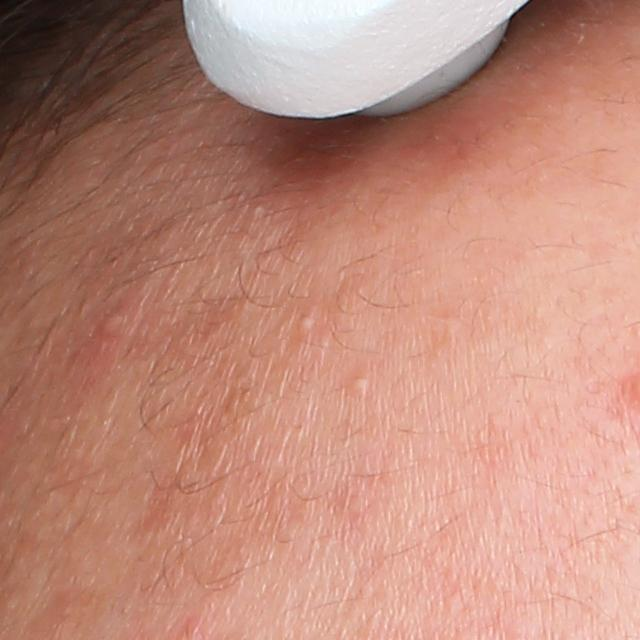comedo: (344, 369, 378, 399), (292, 311, 319, 332)
papule: (90, 303, 143, 353)
